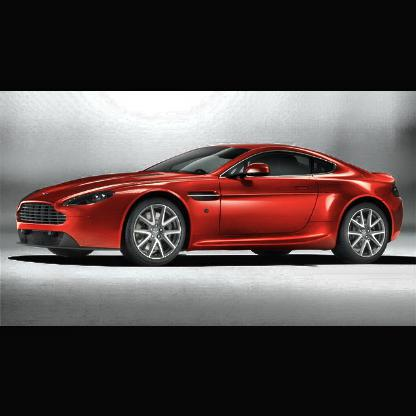Aston Martin V8 Vantage Coupe 2012: (13, 139, 409, 265)
